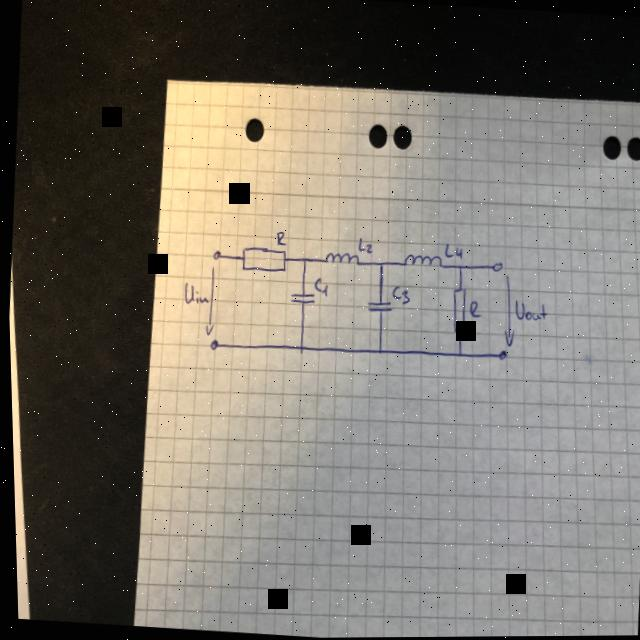capacitor: (285, 291, 314, 307), (365, 299, 392, 315)
inductor: (400, 252, 442, 272), (321, 250, 359, 268)
junction: (294, 343, 304, 355), (453, 349, 462, 360), (375, 260, 384, 271), (374, 347, 382, 357), (299, 256, 307, 266), (454, 263, 461, 273)
resistor: (238, 244, 287, 276), (448, 285, 466, 336)
terminal: (206, 338, 221, 353), (491, 348, 506, 363), (487, 260, 502, 275), (209, 249, 225, 262)
text: (510, 298, 547, 325), (180, 281, 210, 307), (389, 285, 408, 306), (442, 241, 462, 260), (311, 276, 327, 298), (355, 237, 372, 256), (273, 228, 287, 249), (466, 300, 481, 319)
